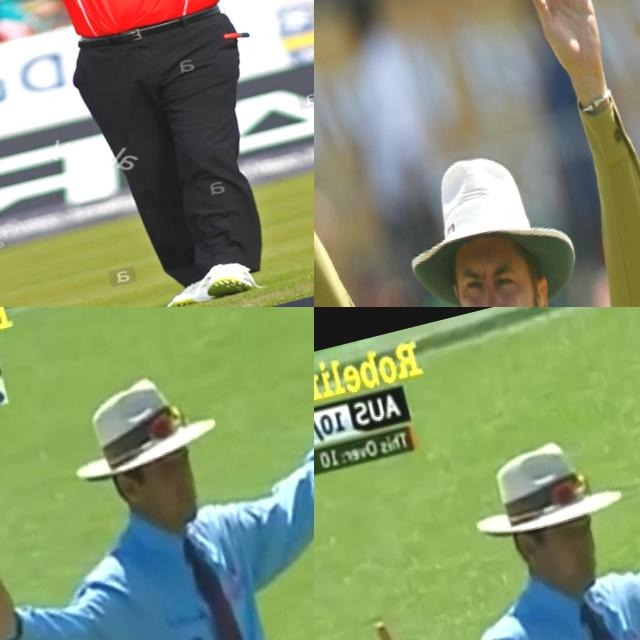Six: (314, 0, 640, 307), (0, 0, 314, 307)
Wide: (0, 307, 314, 640), (320, 369, 640, 640)
